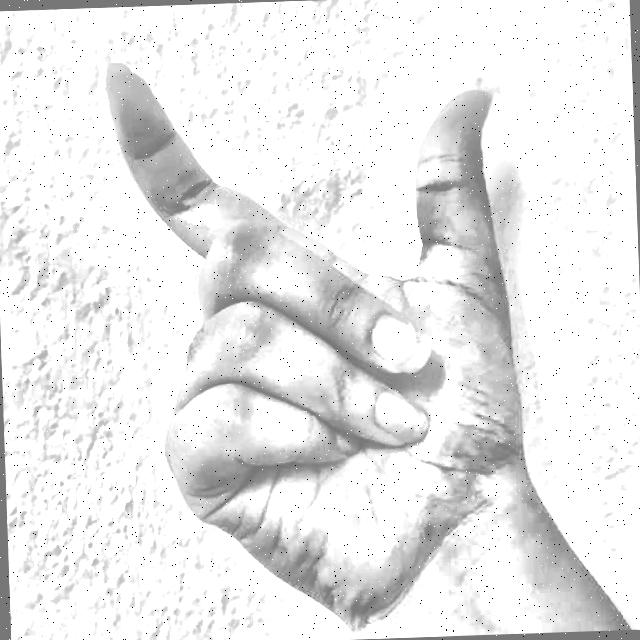ChandraBindu: (80, 22, 556, 626)
